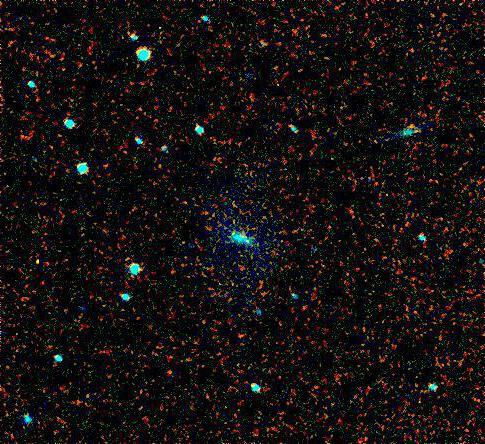star: (397, 112, 427, 142)
